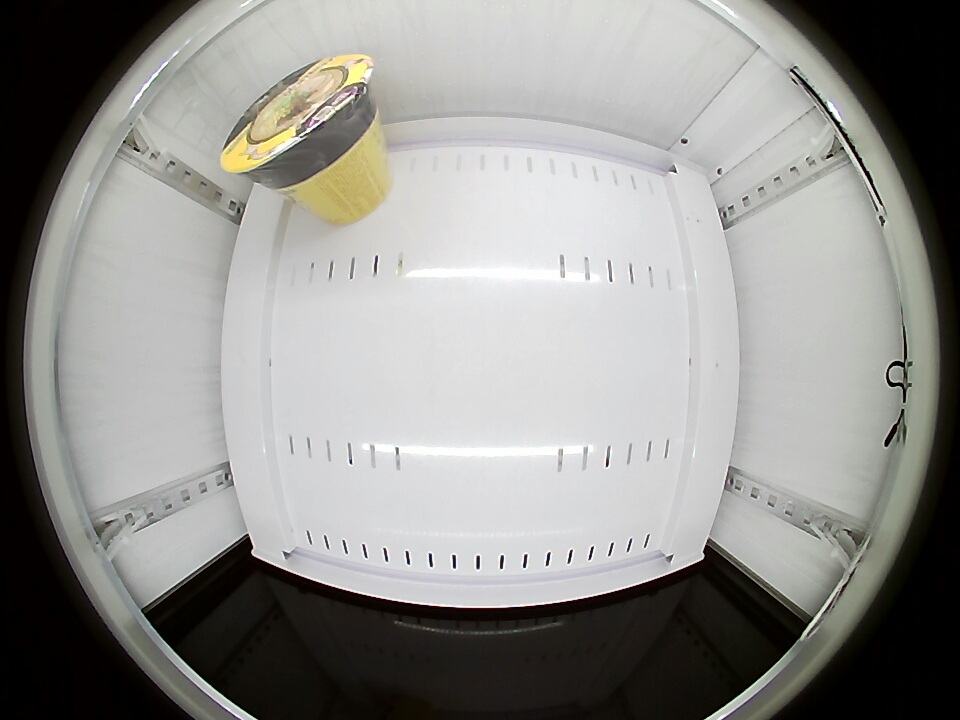tangdaren2: (220, 52, 378, 189)
